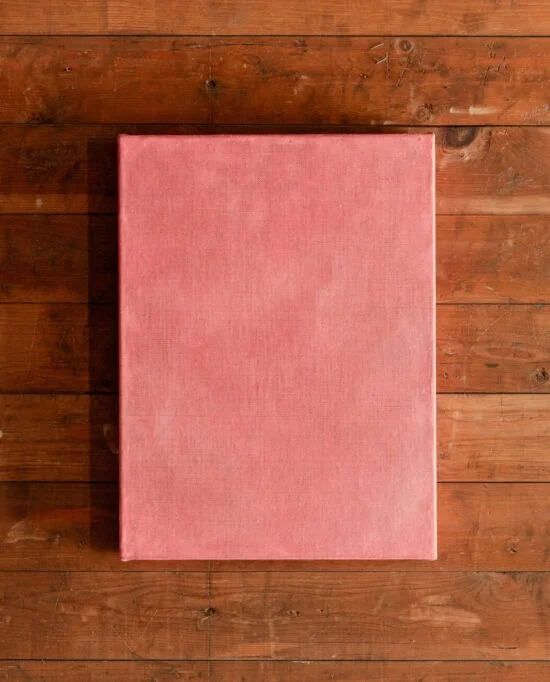painting: (117, 133, 438, 562)
